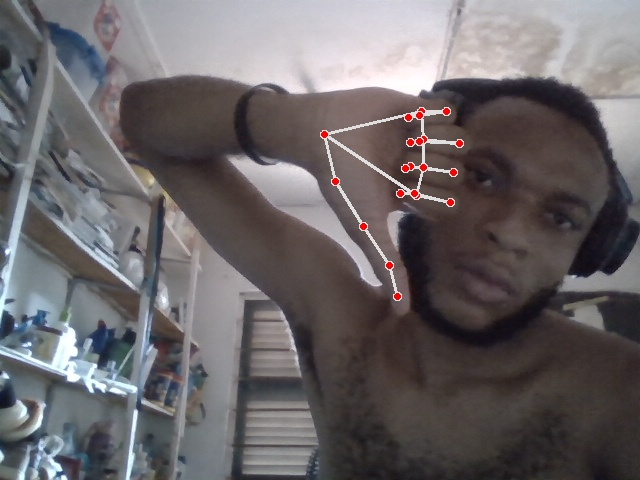thumbsdown: (313, 86, 473, 315)
